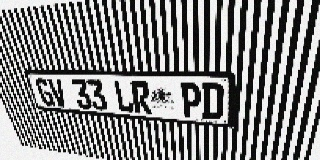3: (71, 79, 93, 110), (86, 80, 108, 111)
D: (202, 83, 224, 120)
G: (34, 78, 56, 107)
L: (113, 80, 135, 113)
P: (180, 82, 201, 118)
R: (130, 81, 152, 114)
V: (47, 79, 69, 108)
